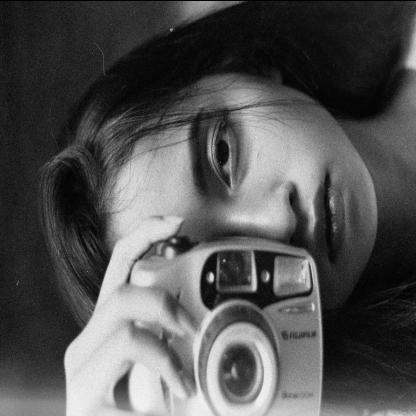Eye: (209, 106, 242, 190)
Mouth: (310, 164, 350, 274)
Nose: (230, 174, 298, 238)
